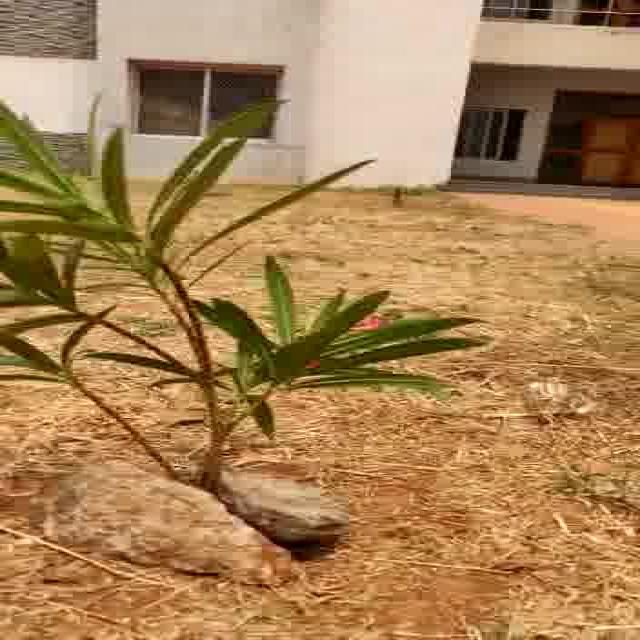Oleander: (0, 108, 476, 448)
